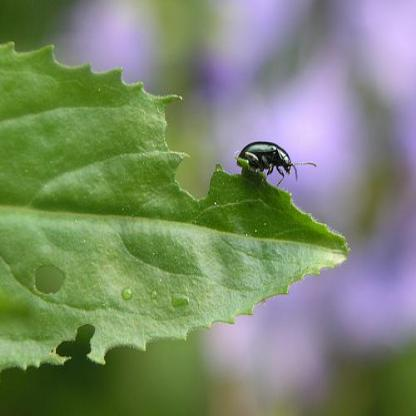beetle: (234, 137, 311, 182)
